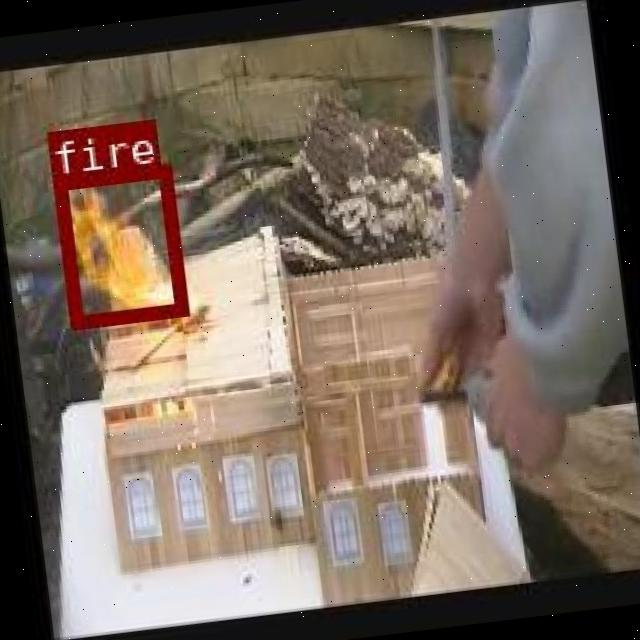fire: (51, 162, 186, 326)
